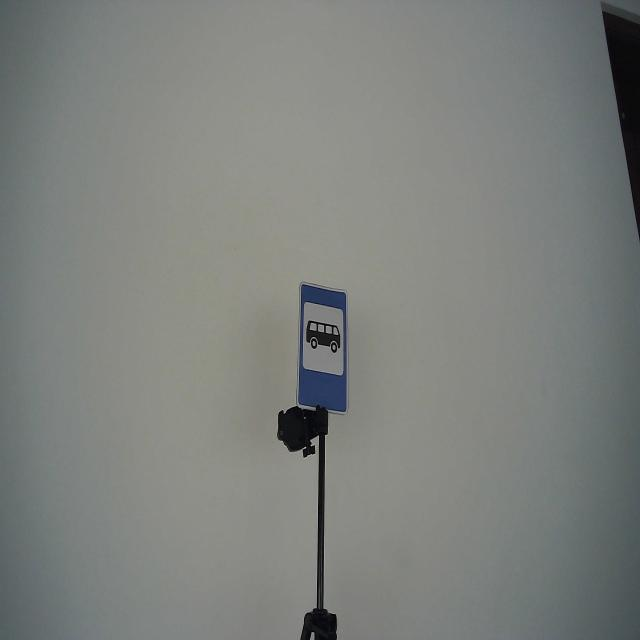bus_stop: (295, 278, 351, 416)
